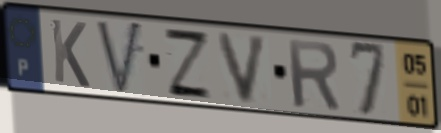7: (347, 38, 389, 120)
K: (48, 16, 92, 91)
R: (284, 36, 343, 112)
V: (214, 30, 272, 107), (93, 18, 146, 99)
Z: (160, 25, 215, 102)
